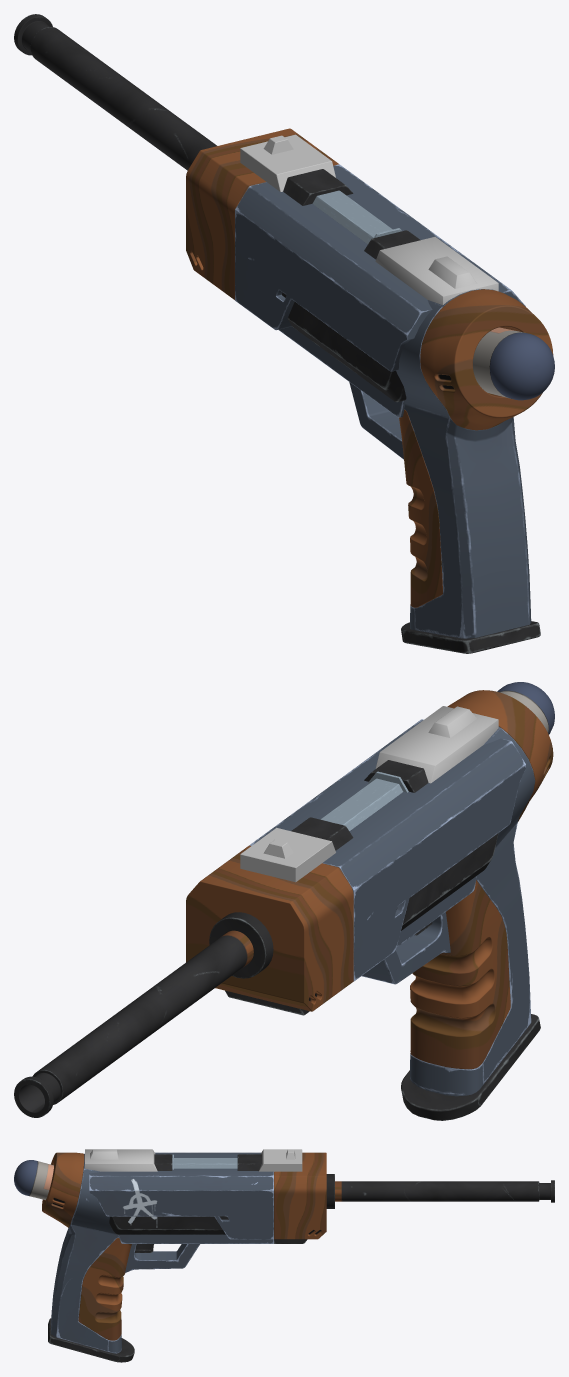
The model's file is gun.fbx.
The picture shows the model from 3 angles, top to bottom: view 1: azimuth 30°, elevation 25°; view 2: azimuth 150°, elevation 25°; view 3: azimuth 270°, elevation 25°; orthographic projection. The views are drawn at different scales.
Parts seen in each view (by area): view 1: gun; view 2: gun; view 3: gun.
Part boxes in pixels (<box>): gun: <box>14,14,554,653</box>; gun: <box>14,682,554,1120</box>; gun: <box>14,1149,554,1362</box>.
Bounding box in the file's own units: 3.46 × 10.67 × 25.44.
